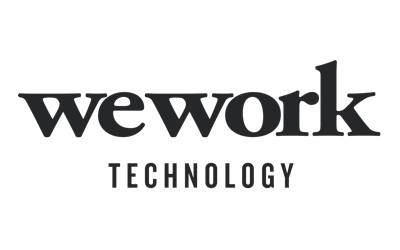wework: (14, 59, 383, 139)
